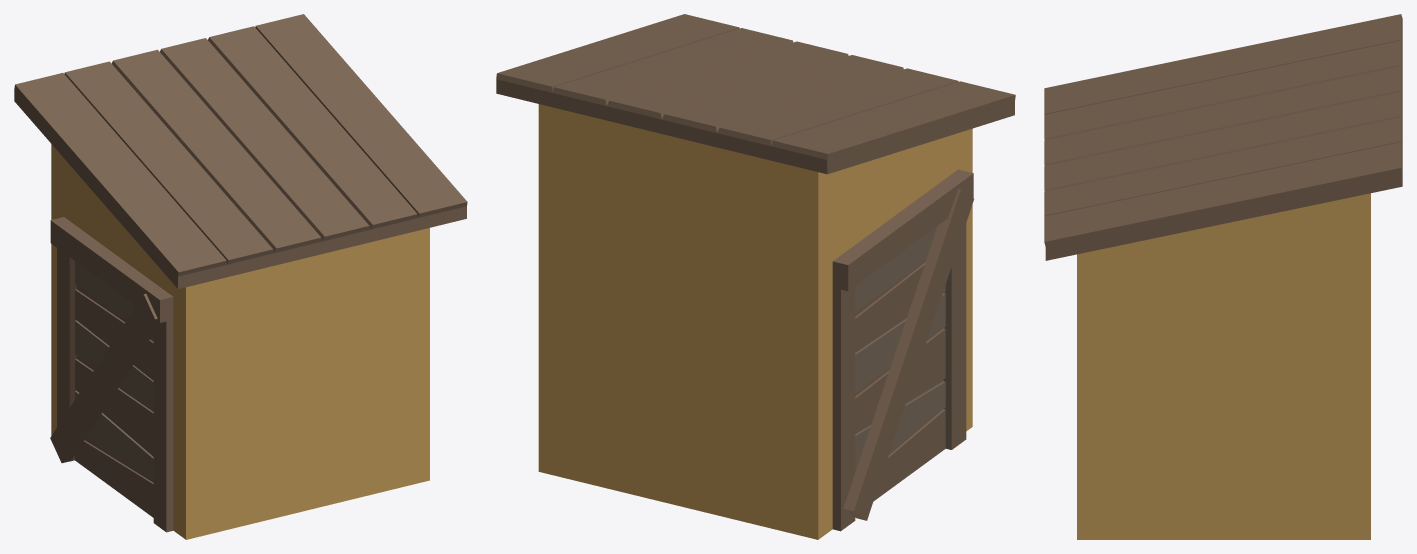
Rendered from shed.fbx.
3 views of the same model, side by side, from view 1: azimuth 30°, elevation 25°; view 2: azimuth 150°, elevation 25°; view 3: azimuth 270°, elevation 25° (orthographic). The views are drawn at different scales.
Parts seen in each view (by area): view 1: shed; view 2: shed; view 3: shed.
Boxes of the visible parts, x1,y1,x2,y2 form: shed: (14, 14, 467, 539); shed: (496, 14, 1015, 539); shed: (1044, 14, 1402, 539).
Size of the model in its own units: 2.66 by 2.62 by 3.1.
